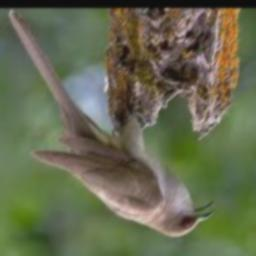Cuckoo: (9, 11, 216, 237)
